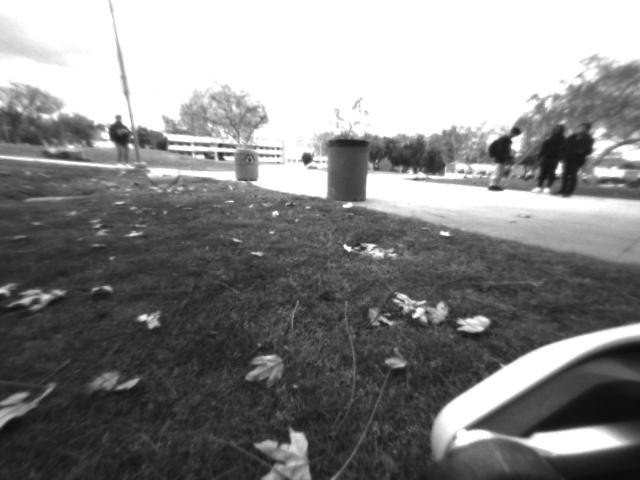trashcan: (324, 140, 365, 204), (234, 148, 264, 182)
